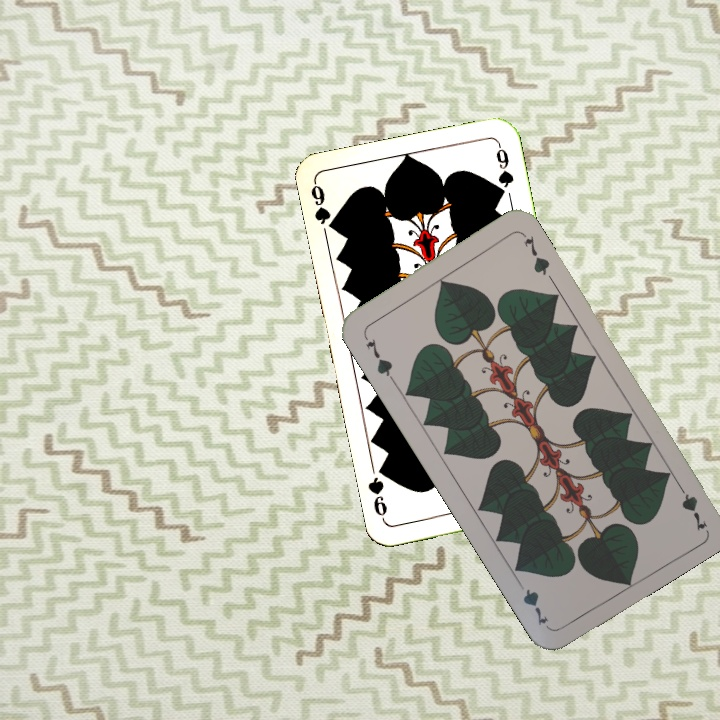G7: (671, 477, 710, 533), (359, 330, 397, 383)
G9: (306, 178, 341, 235)
